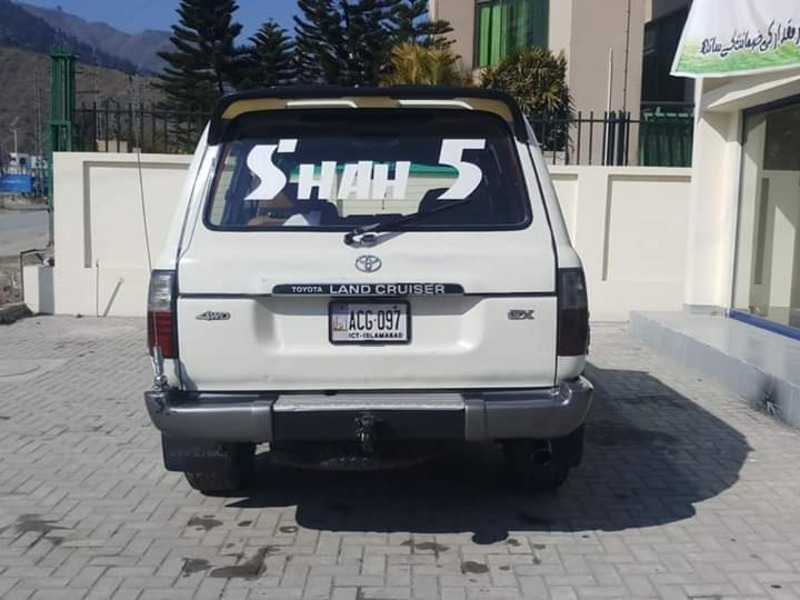License Plate: (321, 292, 416, 351)
